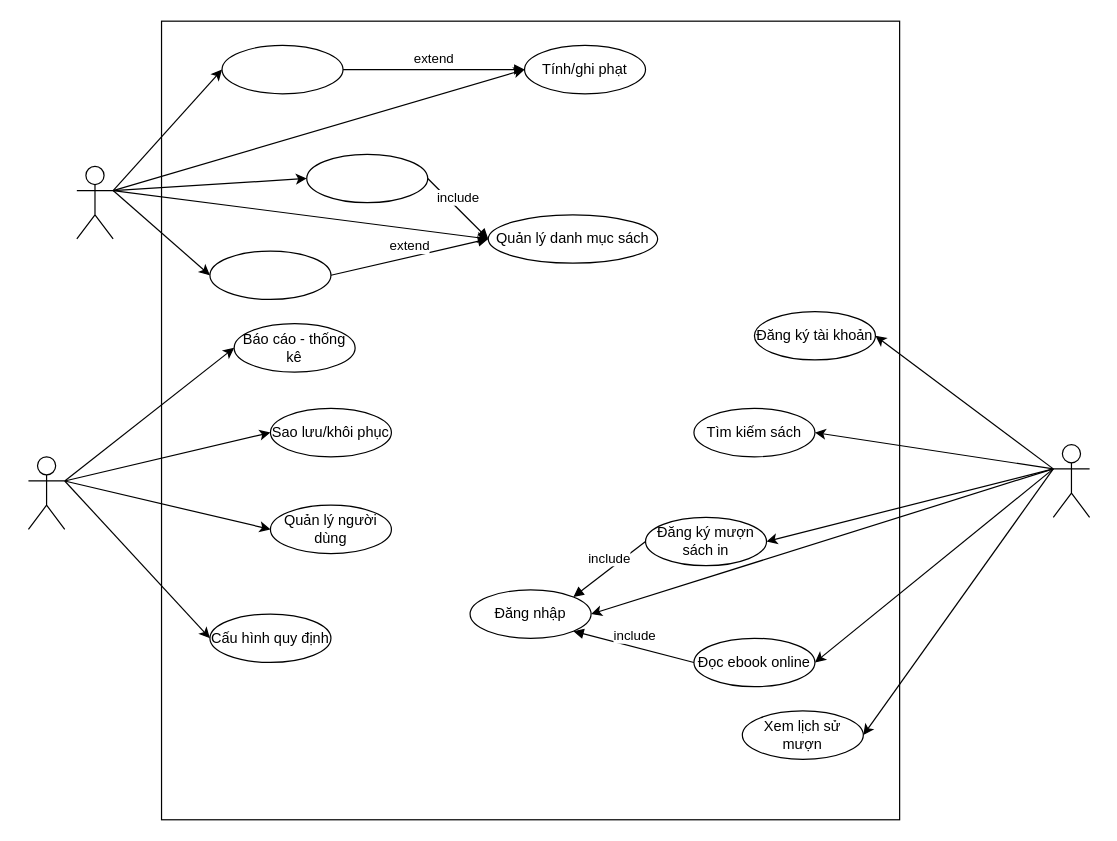
The diagram is 1117 pixels wide and 841 high, and some of its shapes have lost their labels. The shapes that lost their labels are listed below. From the top down, each one's centre as x and y in pixels, then its label:
At point (282, 69): "Nhận trả sách".
At point (367, 178): "Phát sách".
At point (94, 202): "Thủ thư".
At point (270, 274): "Duyệt đăng ký mượn".
At point (46, 492): "Quản trị".
At point (1071, 480): "Độc giả".
